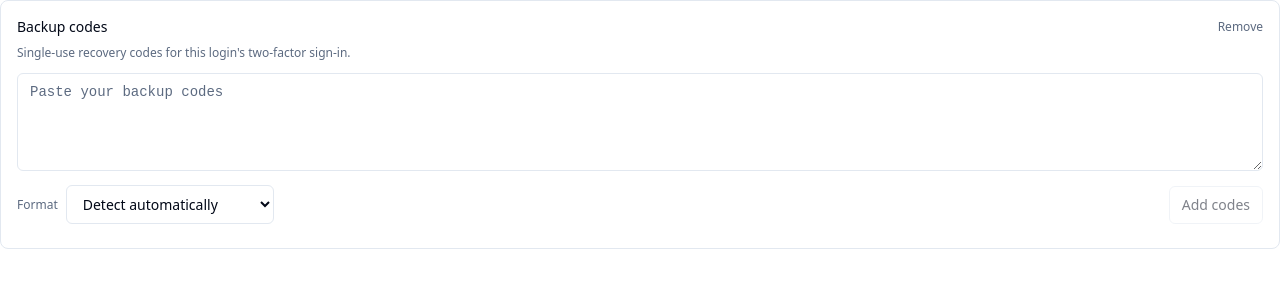
Scenario: BackupCodesEditor parse feedback › omits the "Detected" prefix when the user pinned a format
The image size is (1280, 308).
Select "Comma-separated" in the dropdown labelled "Format" at x=170, y=204, box top-left (66, 185), bottom-right (274, 224)
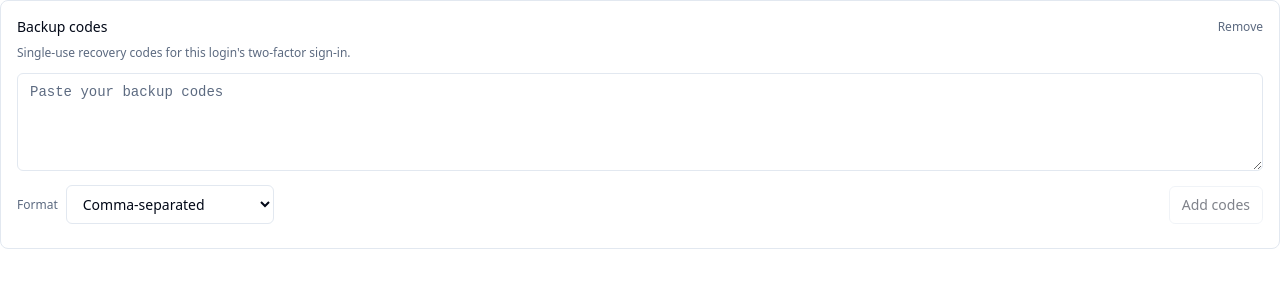
Type "A-1,B-2" into the text box with placeholder "Paste your backup codes" at x=640, y=122, box top-left (17, 73), bottom-right (1263, 171)
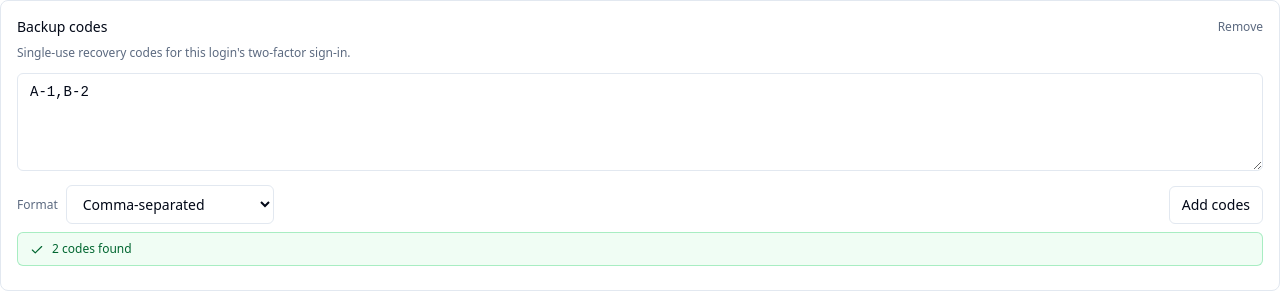
Result: the text "2 codes found" is shown at top-left (52, 241), bottom-right (132, 257)
